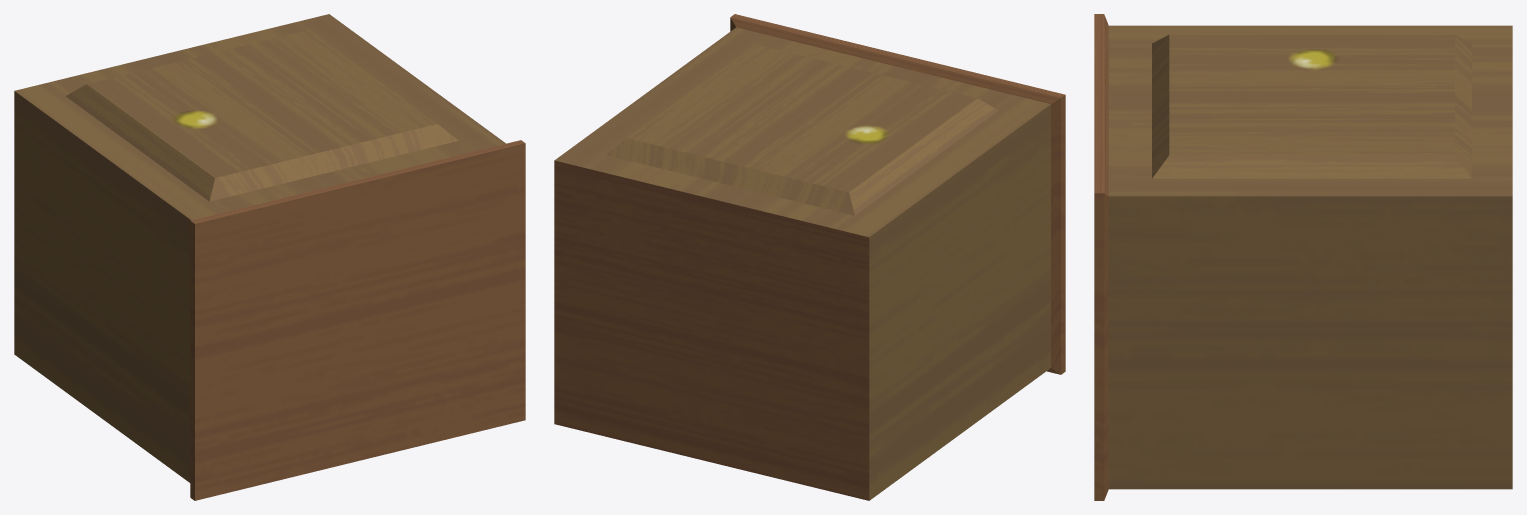
Rendered from sidetable.obj.
3 views of the same model, side by side, from view 1: azimuth 30°, elevation 25°; view 2: azimuth 150°, elevation 25°; view 3: azimuth 270°, elevation 25° (orthographic). The views are drawn at different scales.
Parts seen in each view (by area): view 1: Dresstable, Door; view 2: Dresstable, Door; view 3: Dresstable, Door.
Part boxes in pixels (<box>): Dresstable: <box>14,14,525,500</box>; Door: <box>65,30,458,201</box>; Dresstable: <box>554,14,1065,500</box>; Door: <box>606,44,998,215</box>; Dresstable: <box>1094,14,1512,500</box>; Door: <box>1152,34,1471,178</box>.
Bounding box in the file's own units: 0.5252 × 0.4321 × 0.5181.
Materials: 1 (1 with a texture image).
